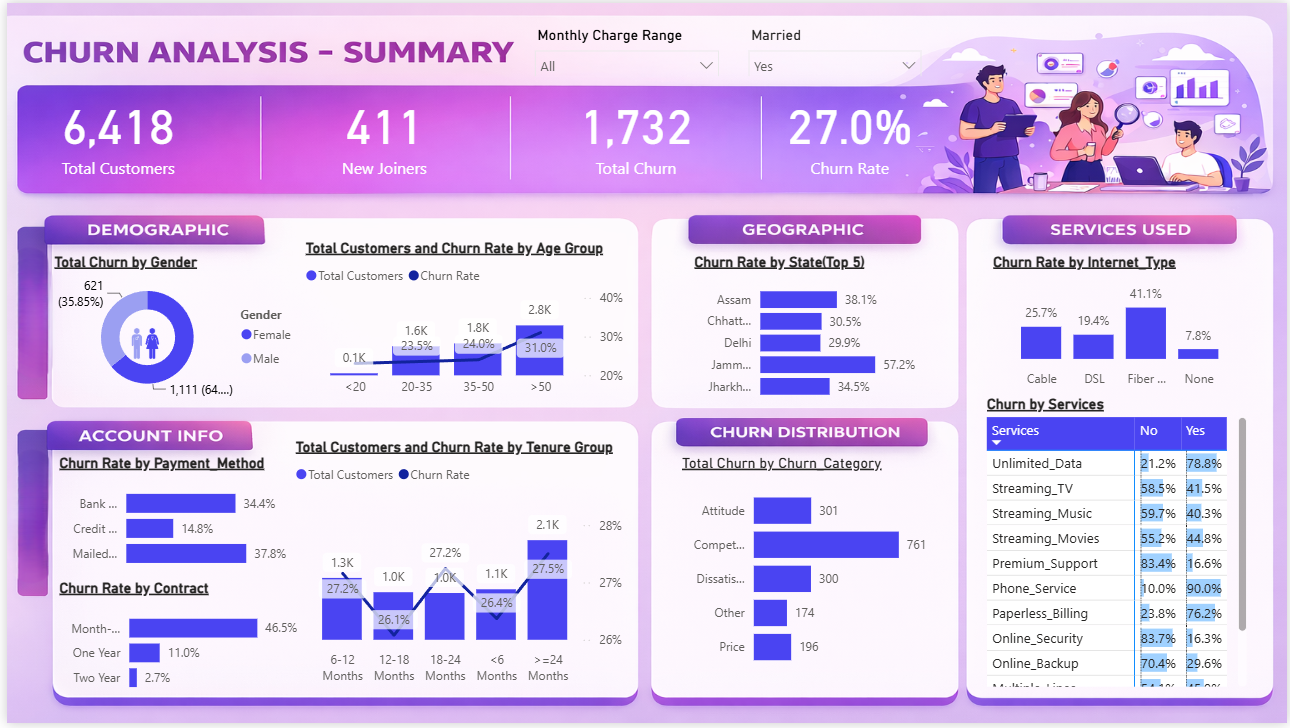

The page's visual inventory and layout, read from the dashboard file:
{"tool":"powerbi","page":{"name":"Summary","canvas":[1280,720],"ordinal":0},"visuals":[{"type":"image","box":[111.9,319.5,54.4,40.3],"z":0},{"type":"card","fields":{"Values":["tbl_Measures.Total Customers"]},"box":[0,55.4,222.7,149.2],"z":1000},{"type":"card","fields":{"Values":["tbl_Measures.New Joiners"]},"box":[284.2,62.5,187.5,134],"z":2000},{"type":"card","fields":{"Values":["tbl_Measures.Total Churn"]},"box":[535.2,62.5,188.5,134],"z":3000},{"type":"card","fields":{"Values":["tbl_Measures.Churn Rate"]},"box":[748.9,62.5,188.5,134],"z":4000},{"type":"donutChart","fields":{"Category":["prod_Churn.Gender"],"Y":["tbl_Measures.Total Churn"]},"box":[42.3,250,257,152.2],"z":5000},{"type":"lineStackedColumnComboChart","fields":{"Category":["mapping_AgeGrp.Age Group"],"Y":["tbl_Measures.Total Customers"],"Y2":["tbl_Measures.Churn Rate"]},"box":[293.3,235.8,327.6,166.3],"z":6000},{"type":"clusteredBarChart","fields":{"Category":["prod_Churn.Payment_Method"],"Y":["tbl_Measures.Churn Rate"]},"box":[47.4,451.5,236.9,125],"z":7000},{"type":"clusteredBarChart","fields":{"Category":["prod_Churn.Contract"],"Y":["tbl_Measures.Churn Rate"]},"box":[47.4,576.5,247.9,124],"z":8000},{"type":"lineStackedColumnComboChart","fields":{"Category":["mapping_TenureGrp.Tenure Group"],"Y":["tbl_Measures.Total Customers"],"Y2":["tbl_Measures.Churn Rate"]},"box":[284.2,435.4,336.6,253],"z":9000},{"type":"clusteredBarChart","title":"Churn Rate by State(Top 5)","fields":{"Category":["prod_Churn.State"],"Y":["tbl_Measures.Churn Rate"]},"box":[682.3,250,230.8,156.2],"z":10000},{"type":"clusteredBarChart","fields":{"Category":["prod_Churn.Churn_Category"],"Y":["tbl_Measures.Total Churn"]},"box":[670.2,451.5,255,225.8],"z":11000},{"type":"clusteredColumnChart","fields":{"Category":["prod_Churn.Internet_Type"],"Y":["tbl_Measures.Churn Rate"]},"box":[980.7,250,258,141.1],"z":12000},{"type":"pivotTable","title":"Churn by Services","fields":{"Rows":["prod_Services.Services"],"Columns":["prod_Services.Status"],"Values":["Sum(prod_Services.Churn Status)"]},"box":[974.6,392.1,270.1,296.3],"z":13000},{"type":"slicer","fields":{"Values":["prod_Services.Monthly Charge Status"]},"box":[518,19.1,204.6,54.4],"z":14000},{"type":"slicer","fields":{"Values":["prod_Services.Married"]},"box":[731.7,19.1,193.5,54.4],"z":15000}]}

Visuals, with their boxes in screenshot pixels (x1, y1, x2, y2), scaled from the page's 1280x720 canvas onto the 1290x728 screenshot:
image: [x1=113, y1=323, x2=168, y2=364]
card - tbl_Measures.Total Customers: [x1=0, y1=56, x2=224, y2=207]
card - tbl_Measures.New Joiners: [x1=286, y1=63, x2=475, y2=199]
card - tbl_Measures.Total Churn: [x1=539, y1=63, x2=729, y2=199]
card - tbl_Measures.Churn Rate: [x1=755, y1=63, x2=945, y2=199]
donutChart - prod_Churn.Gender x tbl_Measures.Total Churn: [x1=43, y1=253, x2=302, y2=407]
lineStackedColumnComboChart - mapping_AgeGrp.Age Group x tbl_Measures.Total Customers: [x1=296, y1=238, x2=626, y2=407]
clusteredBarChart - prod_Churn.Payment_Method x tbl_Measures.Churn Rate: [x1=48, y1=457, x2=287, y2=583]
clusteredBarChart - prod_Churn.Contract x tbl_Measures.Churn Rate: [x1=48, y1=583, x2=298, y2=708]
lineStackedColumnComboChart - mapping_TenureGrp.Tenure Group x tbl_Measures.Total Customers: [x1=286, y1=440, x2=626, y2=696]
"Churn Rate by State(Top 5)" clusteredBarChart: [x1=688, y1=253, x2=920, y2=411]
clusteredBarChart - prod_Churn.Churn_Category x tbl_Measures.Total Churn: [x1=675, y1=457, x2=932, y2=685]
clusteredColumnChart - prod_Churn.Internet_Type x tbl_Measures.Churn Rate: [x1=988, y1=253, x2=1248, y2=395]
"Churn by Services" pivotTable: [x1=982, y1=396, x2=1254, y2=696]
slicer - prod_Services.Monthly Charge Status: [x1=522, y1=19, x2=728, y2=74]
slicer - prod_Services.Married: [x1=737, y1=19, x2=932, y2=74]
